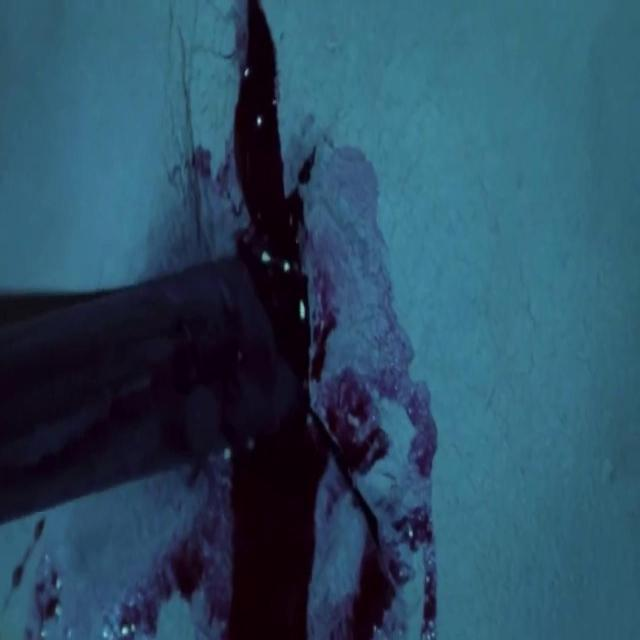flood: (235, 0, 321, 640)
